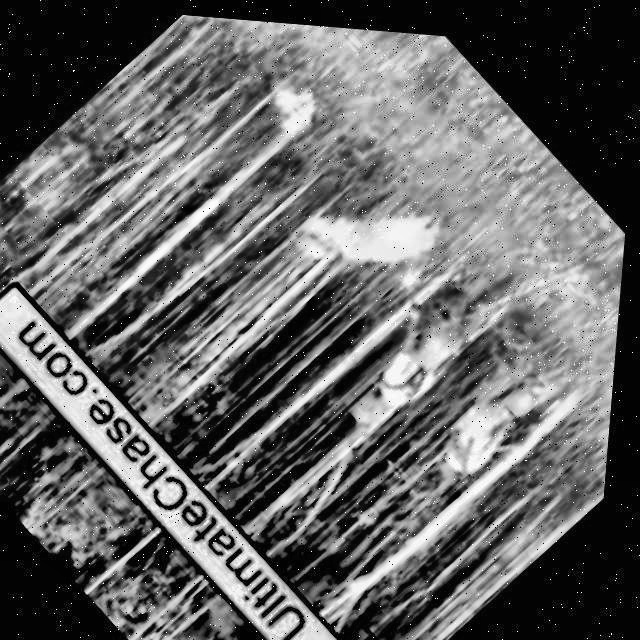Fire: (293, 150, 449, 305), (254, 63, 330, 138)
